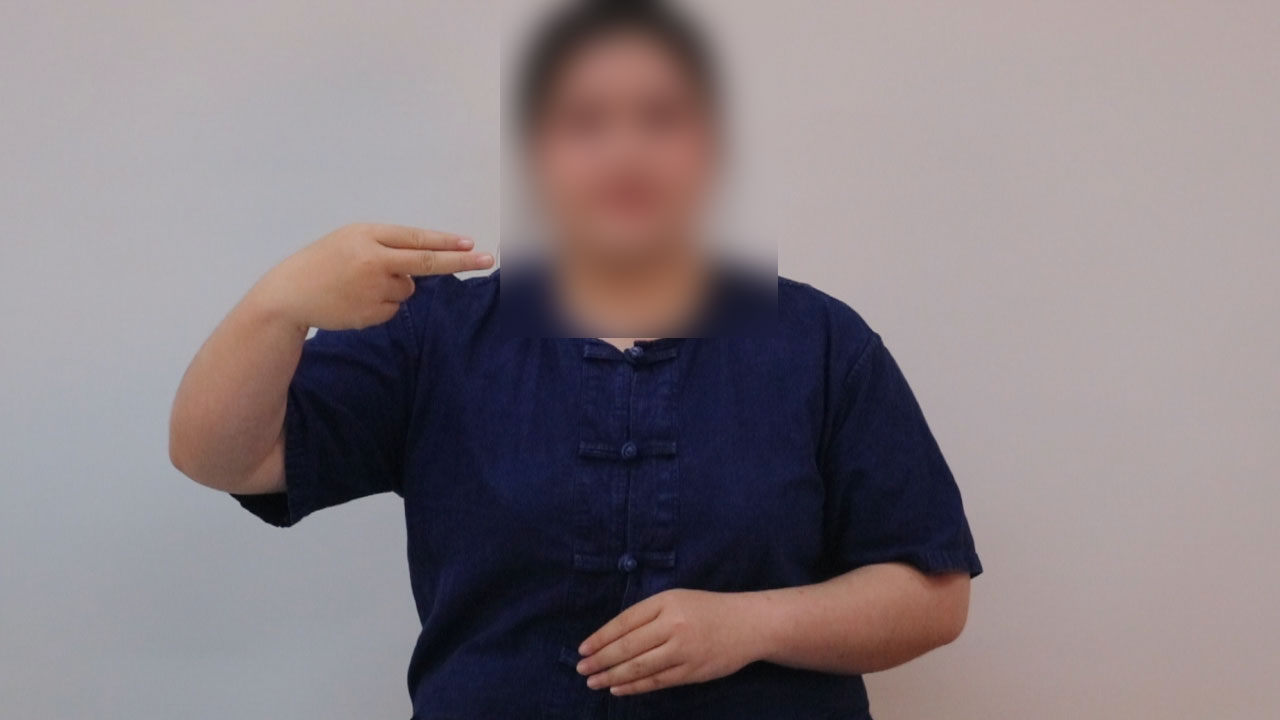hor: (252, 205, 506, 342)
